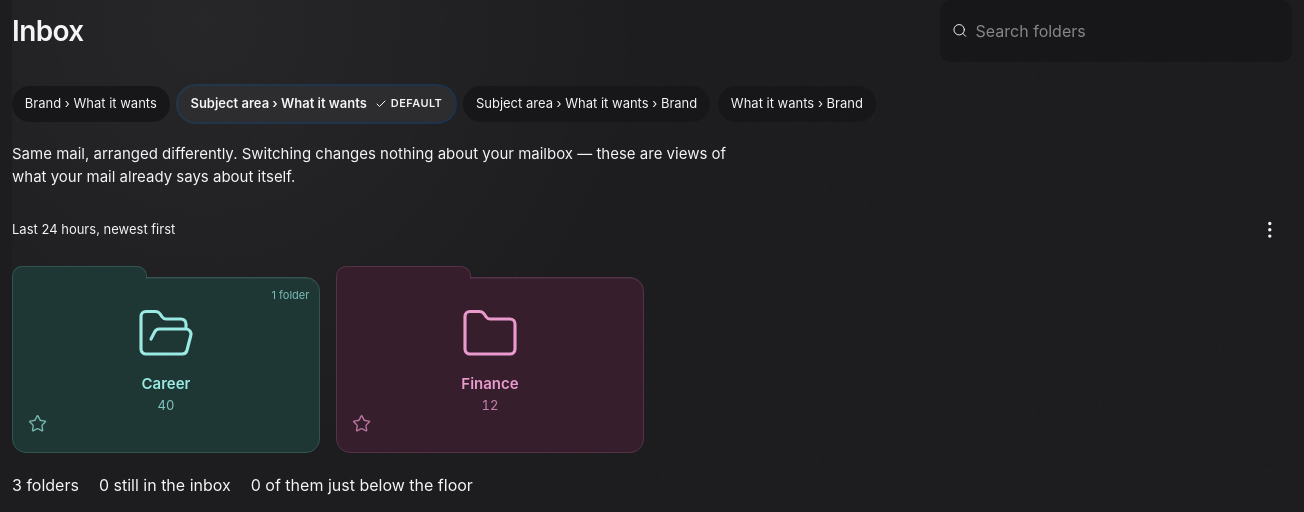
Test: InboxPage › says so when nothing matches instead of showing an empty grid
Expected: the text "Career" is shown, [142,374,190,394]
Type "zzz" into the search field labelled "Search folders" at (1128, 31), box [976,9,1280,53]
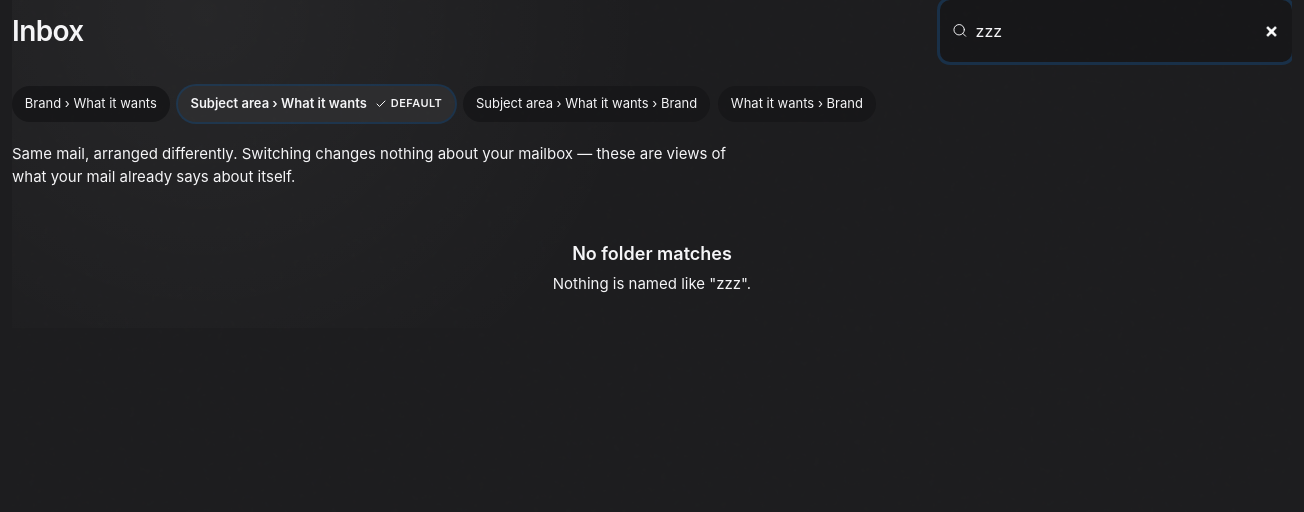
Result: the text "No folder matches" is shown at [572,243,732,264]
